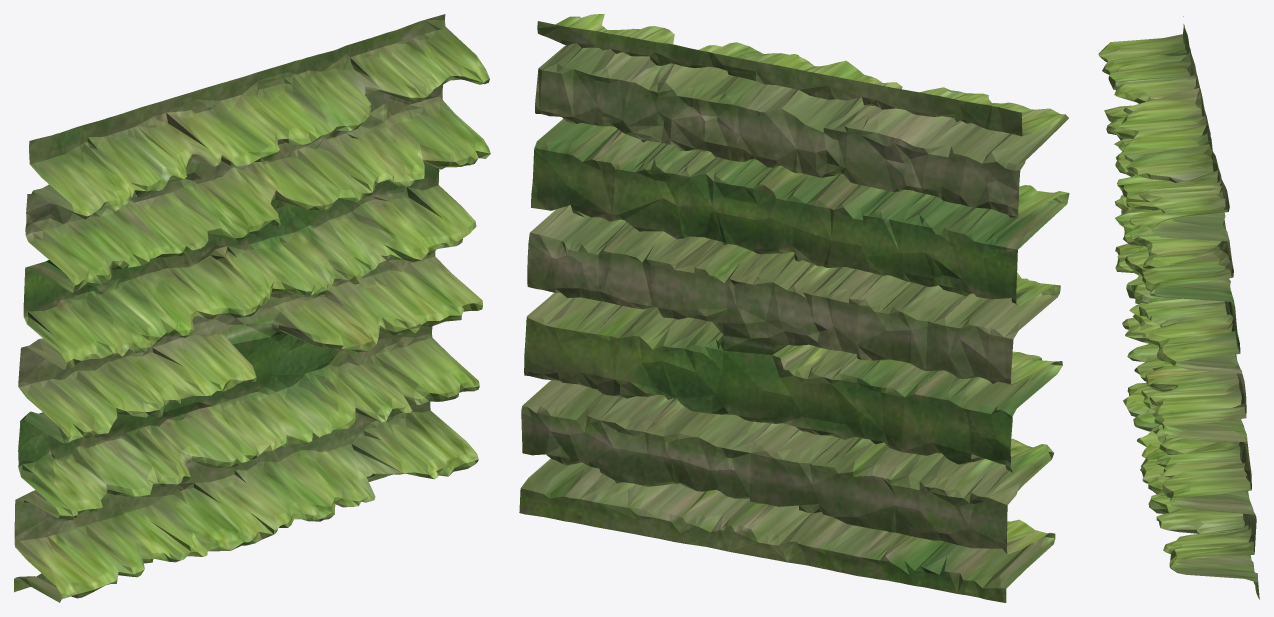
The model's file is map_20_20.obj.
The picture shows the model from 3 angles, left to right: view 1: azimuth 30°, elevation 25°; view 2: azimuth 150°, elevation 25°; view 3: azimuth 270°, elevation 25°; orthographic projection. The views are drawn at different scales.
Visible parts, largest first — view 1: grp1; view 2: grp1; view 3: grp1.
Boxes of the visible parts, x1,y1,x2,y2 form: grp1: (14, 14, 490, 602); grp1: (519, 14, 1069, 602); grp1: (1098, 16, 1259, 599).
Size of the model in its own units: 10 by 10 by 3.65.
Materials: 1 (1 with a texture image).
